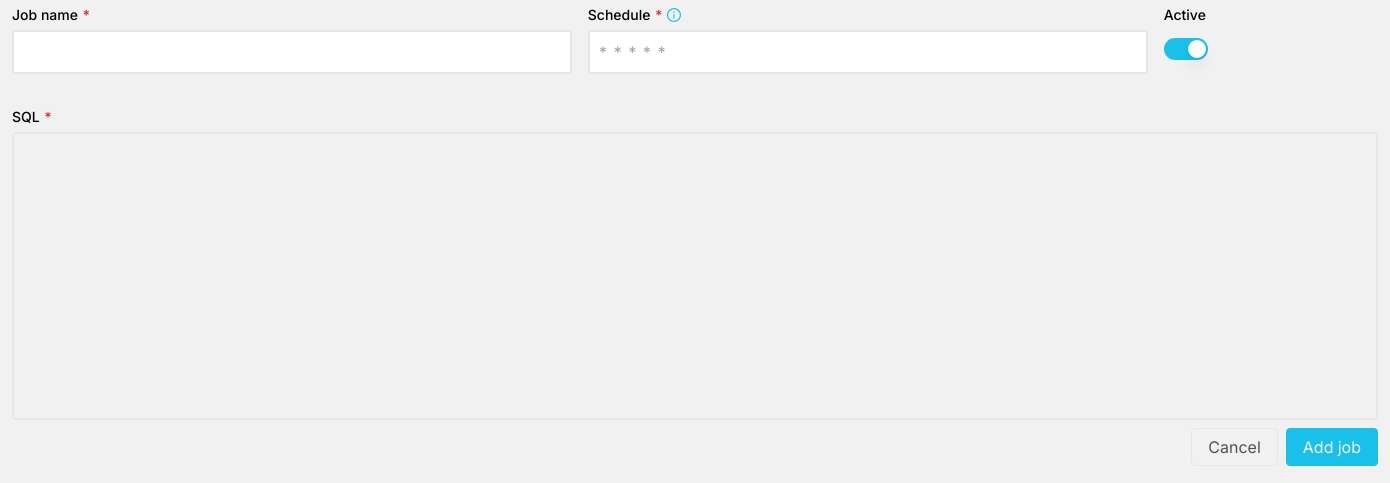
it: The "JobForm" component › the "Schedule" field › gives validation error if submitted with invalid CRON schedule format
In the field labelled "Schedule *": [868, 52] box x1=588 y1=30 x2=1148 y2=74, type "*"
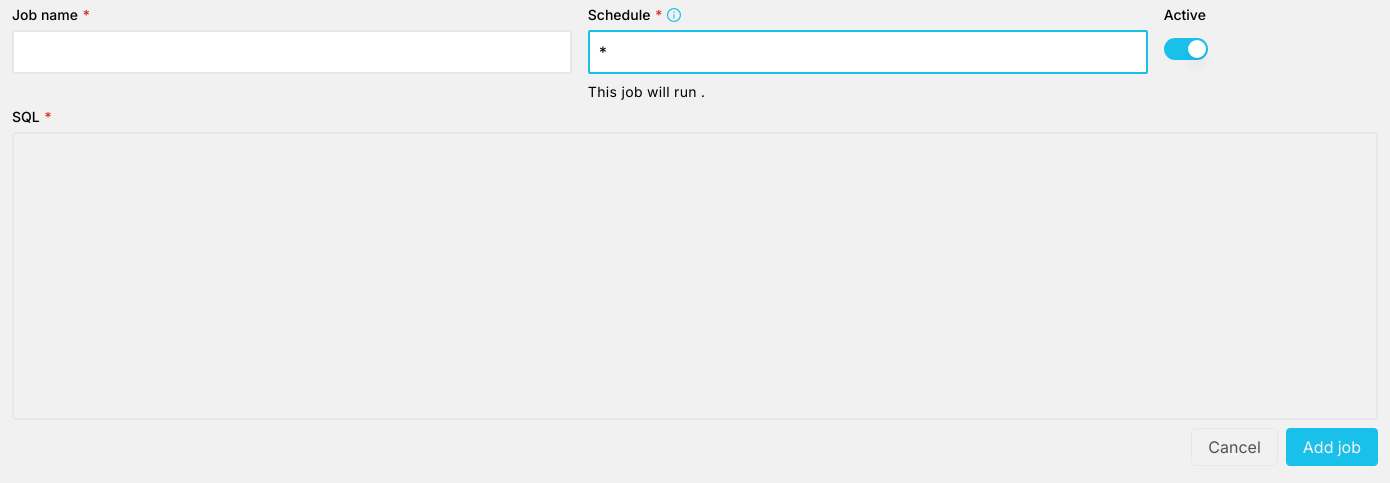
Click the button "Add job": [1332, 447] box x1=1286 y1=428 x2=1378 y2=466
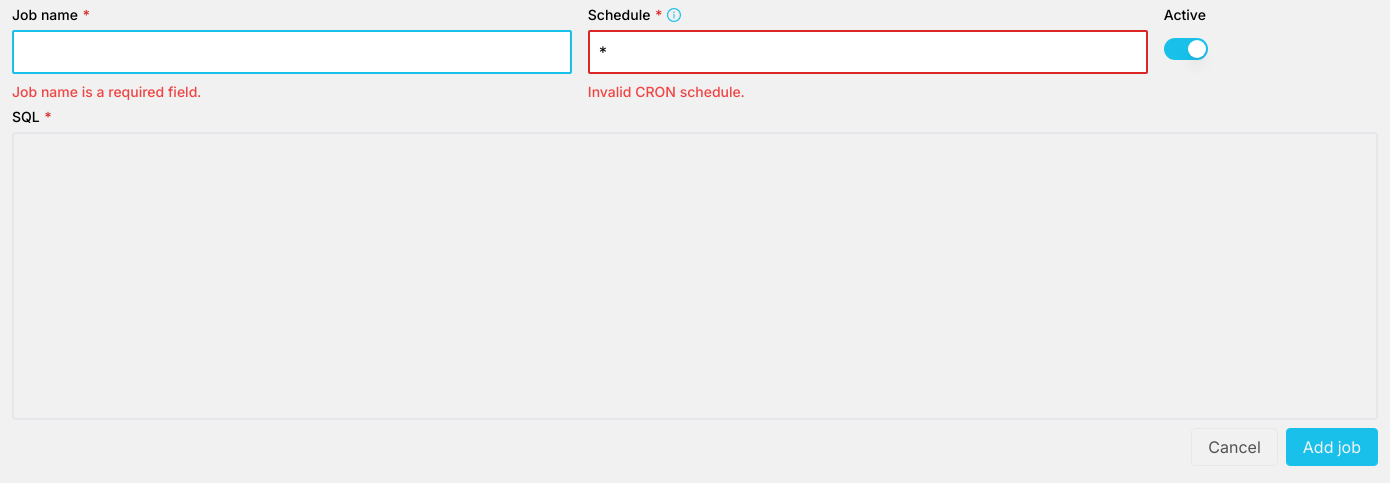
Expected: the text "Invalid CRON schedule." is shown, x1=588 y1=83 x2=744 y2=100
